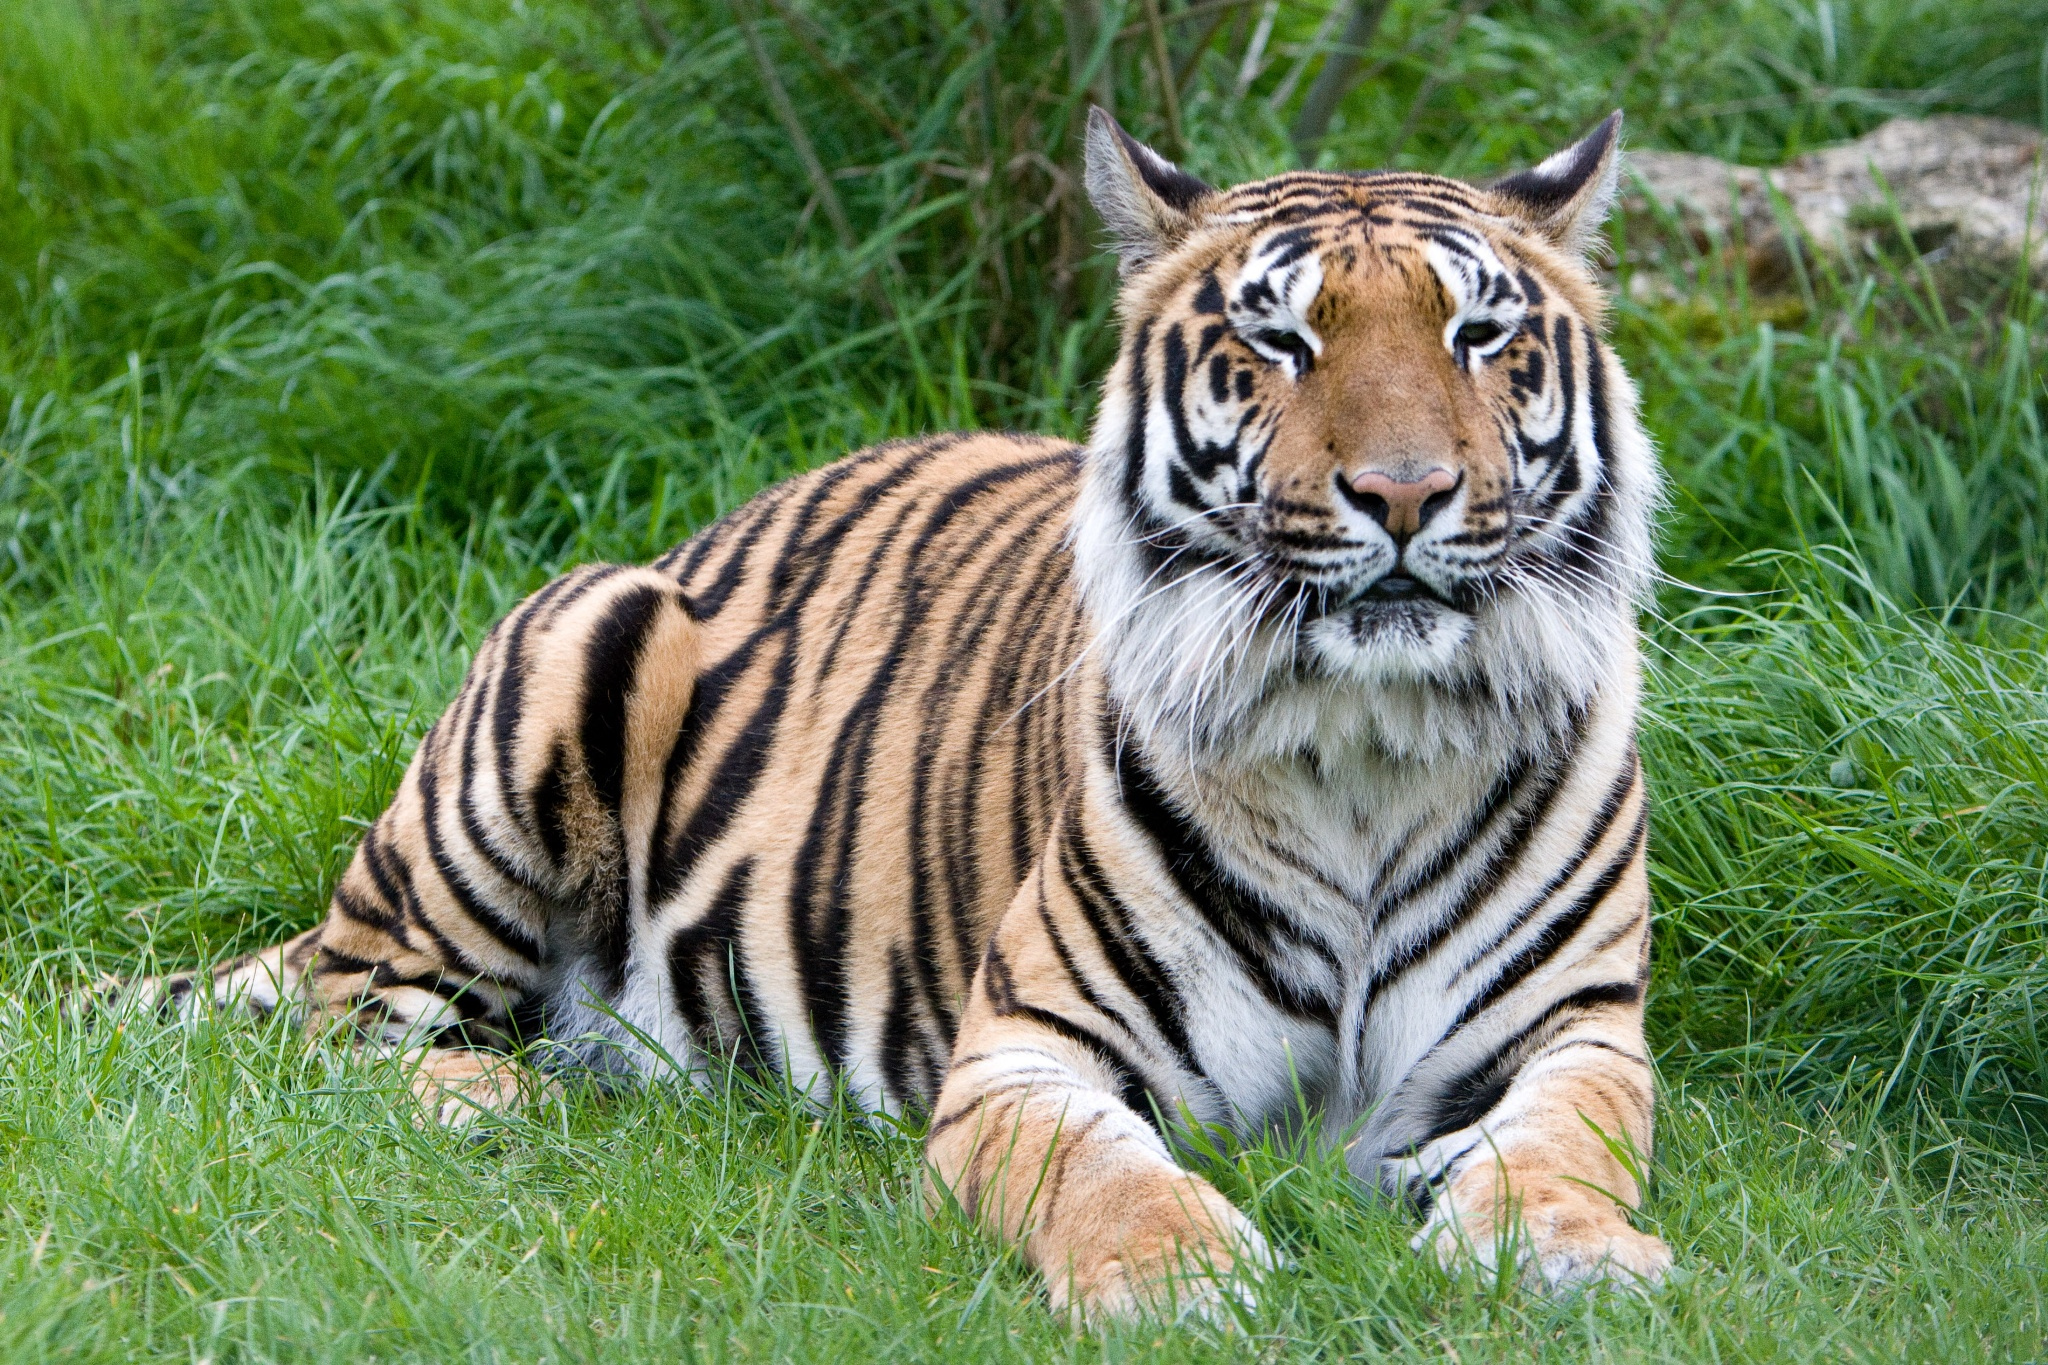tiger: (495, 158, 1775, 1290)
